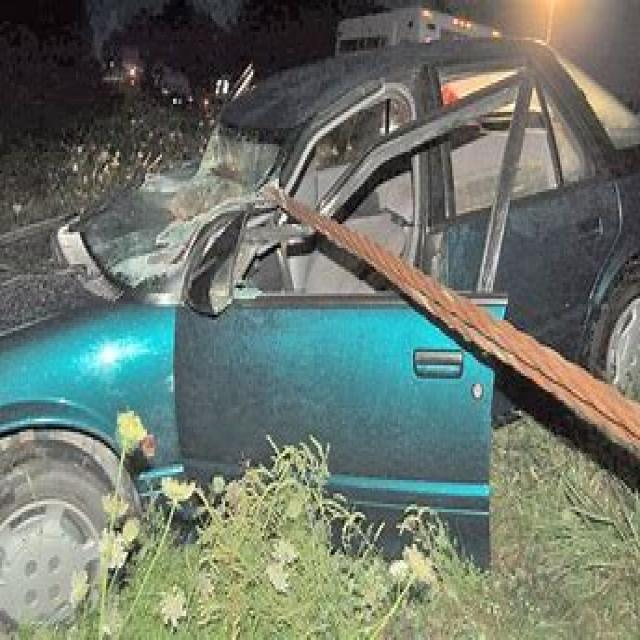Accident: (82, 50, 602, 576)
